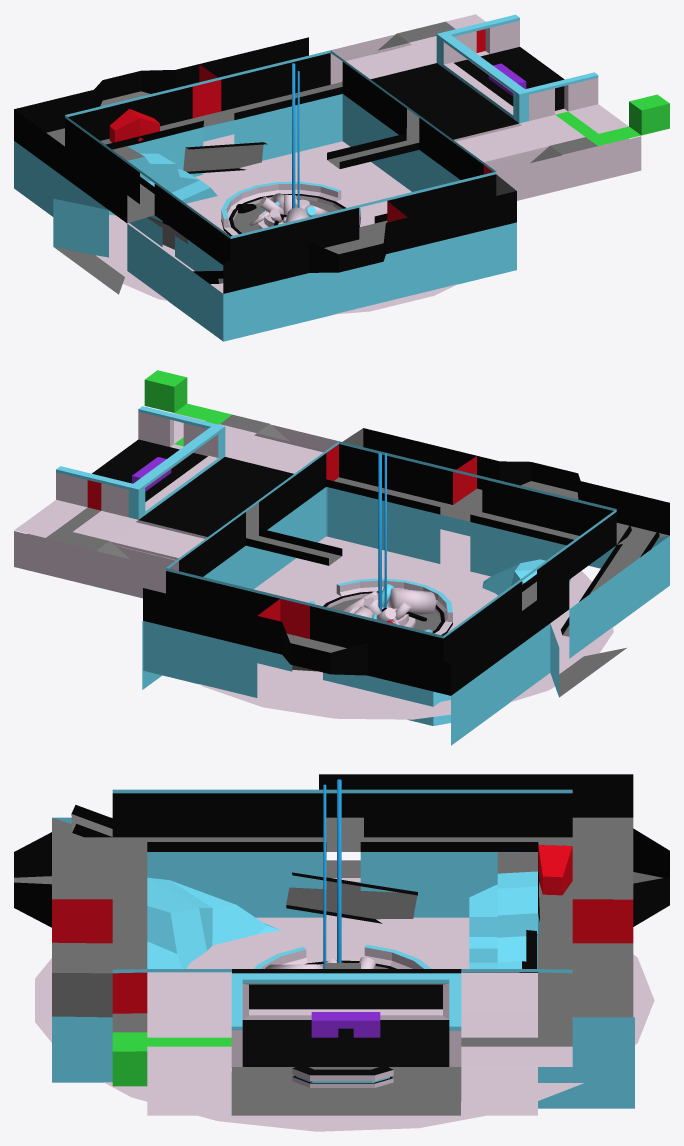
File: level1.fbx
3 renders of one model, top to bottom at view 1: azimuth 30°, elevation 25°; view 2: azimuth 150°, elevation 25°; view 3: azimuth 270°, elevation 25°, orthographic. The views are drawn at different scales.
Visible parts, largest first — view 1: Cylinder.001; view 2: Cylinder.001; view 3: Cylinder.001.
Boxes of the visible parts, box(x1,y1,x2,y2) form: Cylinder.001: box(14, 14, 669, 341); Cylinder.001: box(14, 370, 669, 745); Cylinder.001: box(14, 774, 669, 1131).
Bounding box in the file's own units: 4545 × 1544 × 3718.
